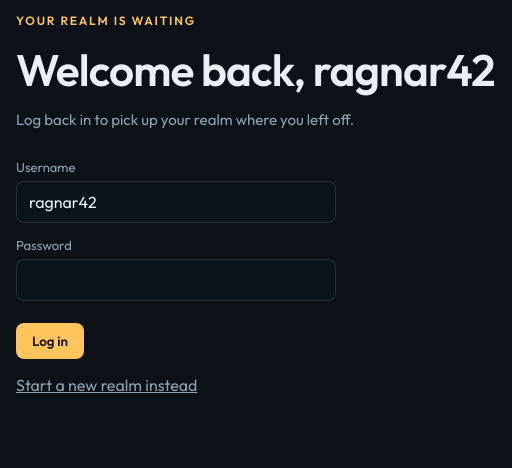
Scenario: ReturningLoginPanel › shows an error and does not navigate when login fails
The image size is (512, 468).
Type "wrong" into the password field with test id "returning-login-password" at (176, 280), box [16,259,336,301]
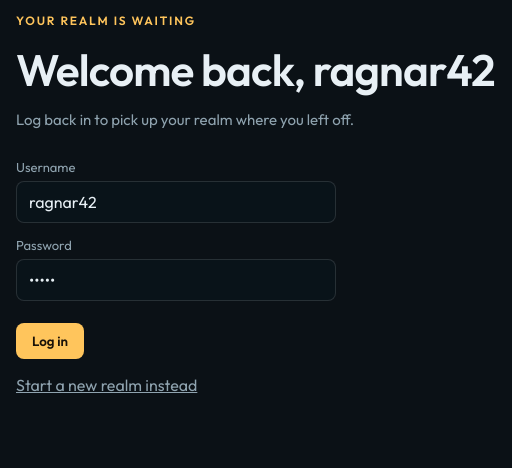
Submit the form, box [16,151,336,359]
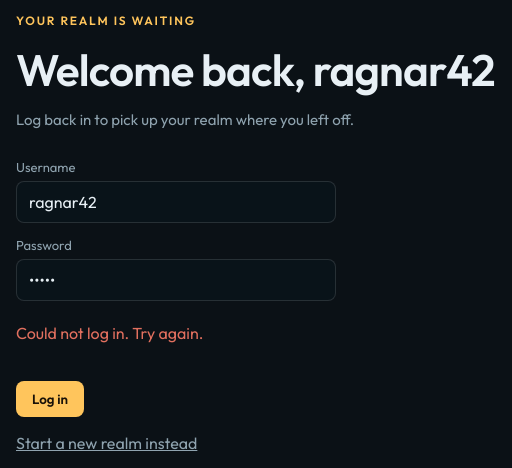
Expected: the text "Could not log in. Try again." is shown, [16,323,203,343]
